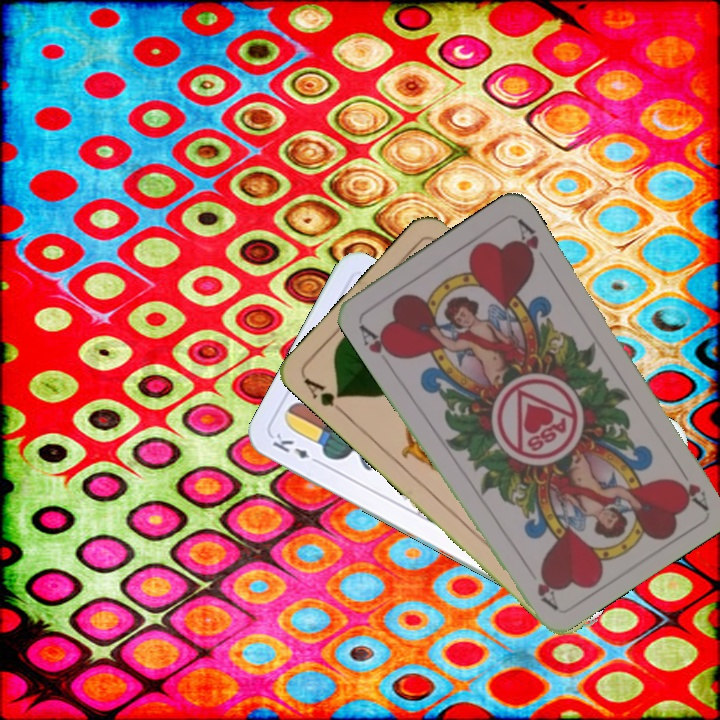EK: (268, 429, 324, 468)
GA: (299, 373, 348, 418)
HA: (670, 458, 711, 511), (354, 320, 401, 362)
